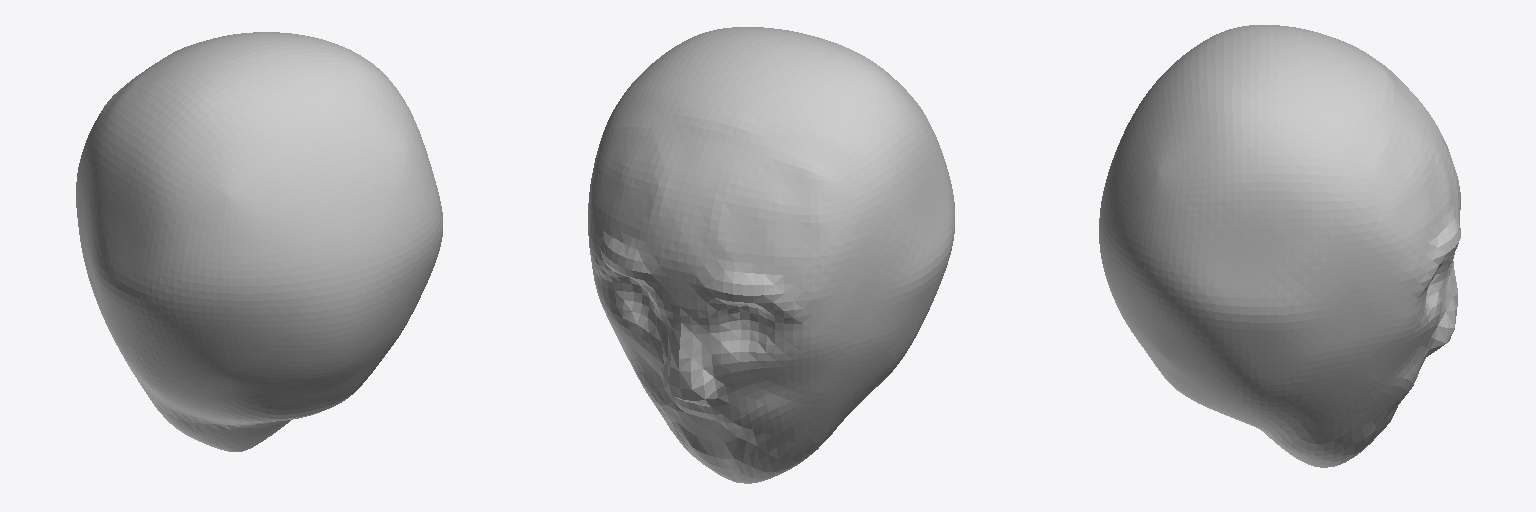
Rendered from head2.obj.
The picture shows the model from 3 angles: view 1: azimuth 30°, elevation 25°; view 2: azimuth 150°, elevation 25°; view 3: azimuth 270°, elevation 25°; orthographic projection.
Visible parts, largest first — view 1: Cube; view 2: Cube; view 3: Cube.
Part boxes in pixels (bbox=[...]): Cube: bbox=[76, 32, 442, 451]; Cube: bbox=[588, 27, 954, 483]; Cube: bbox=[1099, 25, 1460, 467].
Bounding box in the file's own units: 1.52 × 1.97 × 1.55.